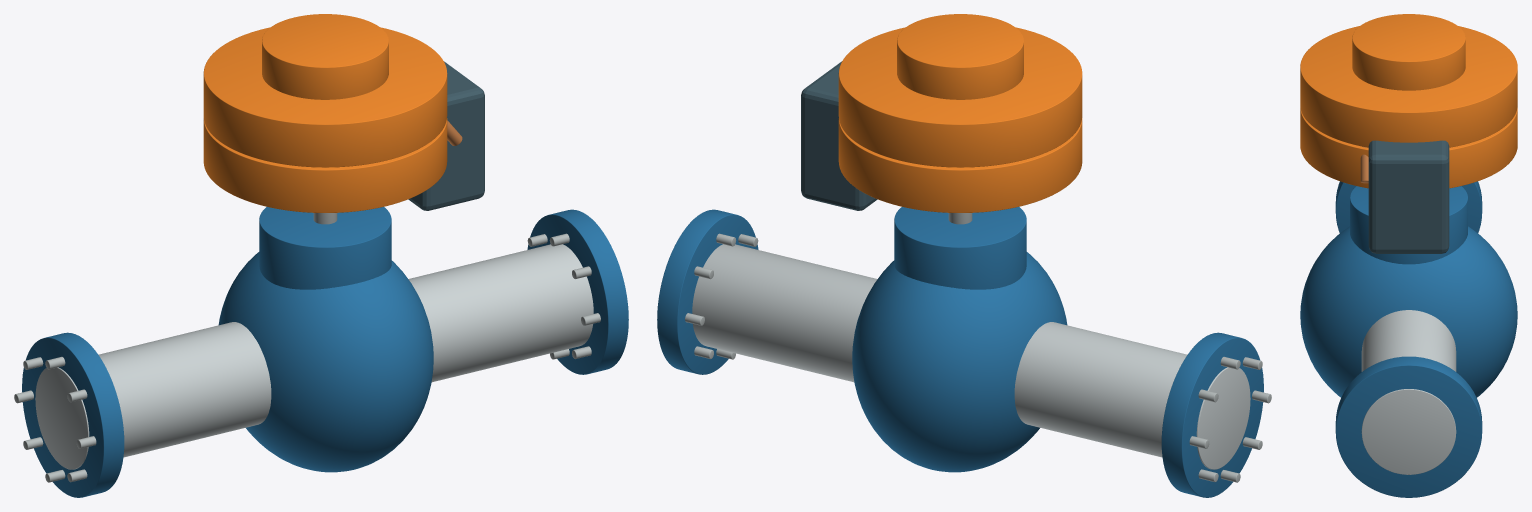
File: pneumatic_control_valve.glb
3 views of the same model, side by side, from view 1: azimuth 30°, elevation 25°; view 2: azimuth 150°, elevation 25°; view 3: azimuth 270°, elevation 25° (orthographic). The views are drawn at different scales.
Visible parts, largest first — view 1: PIPE, GLOBE_CONTROL_BODY, DIAPHRAGM_UPPER, DIAPHRAGM_LOWER, BONNET, AIR_SPRING_CAP, FLANGE_IN, FLANGE_OUT, POSITIONER; view 2: PIPE, GLOBE_CONTROL_BODY, DIAPHRAGM_UPPER, DIAPHRAGM_LOWER, BONNET, AIR_SPRING_CAP, FLANGE_IN, FLANGE_OUT, POSITIONER; view 3: GLOBE_CONTROL_BODY, DIAPHRAGM_UPPER, PIPE, FLANGE_OUT, POSITIONER, AIR_SPRING_CAP, DIAPHRAGM_LOWER, BONNET, FLANGE_IN, AIR_TUBE.
Boxes of the visible parts, bbox=[...] form: PIPE: bbox=[35, 244, 593, 469]; GLOBE_CONTROL_BODY: bbox=[218, 252, 433, 472]; DIAPHRAGM_UPPER: bbox=[203, 27, 447, 167]; DIAPHRAGM_LOWER: bbox=[203, 118, 447, 212]; BONNET: bbox=[259, 207, 391, 289]; AIR_SPRING_CAP: bbox=[262, 14, 388, 99]; FLANGE_IN: bbox=[22, 332, 124, 497]; FLANGE_OUT: bbox=[527, 209, 628, 374]; POSITIONER: bbox=[408, 61, 484, 210]; PIPE: bbox=[692, 244, 1250, 469]; GLOBE_CONTROL_BODY: bbox=[852, 252, 1067, 472]; DIAPHRAGM_UPPER: bbox=[838, 27, 1082, 167]; DIAPHRAGM_LOWER: bbox=[838, 118, 1082, 212]; BONNET: bbox=[894, 207, 1026, 289]; AIR_SPRING_CAP: bbox=[897, 14, 1023, 99]; FLANGE_IN: bbox=[1161, 332, 1263, 497]; FLANGE_OUT: bbox=[657, 209, 758, 374]; POSITIONER: bbox=[801, 61, 877, 210]; GLOBE_CONTROL_BODY: bbox=[1300, 226, 1517, 397]; DIAPHRAGM_UPPER: bbox=[1300, 26, 1517, 147]; PIPE: bbox=[1361, 310, 1456, 474]; FLANGE_OUT: bbox=[1335, 356, 1482, 497]; POSITIONER: bbox=[1368, 140, 1449, 253]; AIR_SPRING_CAP: bbox=[1352, 14, 1465, 90]; DIAPHRAGM_LOWER: bbox=[1300, 108, 1517, 188]; BONNET: bbox=[1350, 186, 1467, 264]; FLANGE_IN: bbox=[1335, 181, 1482, 232]; AIR_TUBE: bbox=[1360, 146, 1368, 183].
Size of the model in its own units: 2.36 by 1.76 by 0.92.
